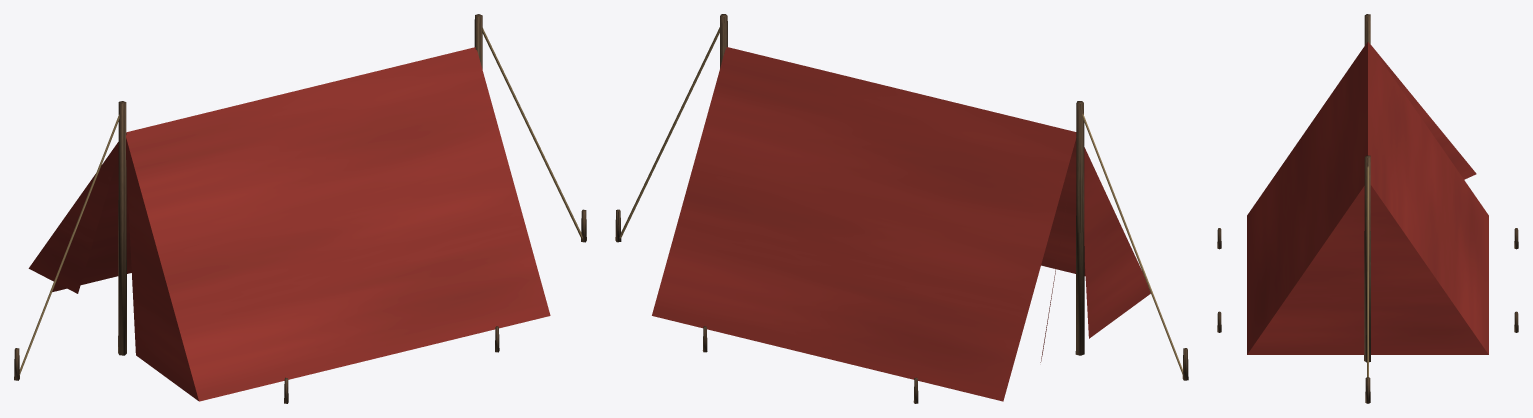
File: Tent_Pilgrim_4.gltf
3 renders of one model, left to right at view 1: azimuth 30°, elevation 25°; view 2: azimuth 150°, elevation 25°; view 3: azimuth 270°, elevation 25°, orthographic. The views are drawn at different scales.
Parts seen in each view (by area): view 1: Tent_Pilgrim_4; view 2: Tent_Pilgrim_4; view 3: Tent_Pilgrim_4.
Boxes of the visible parts, bbox=[...] form: Tent_Pilgrim_4: bbox=[14, 14, 586, 403]; Tent_Pilgrim_4: bbox=[615, 14, 1188, 403]; Tent_Pilgrim_4: bbox=[1217, 14, 1518, 403].
Bounding box in the file's own units: 7.34 × 3.08 × 4.11.
3 materials, 3 textured.
